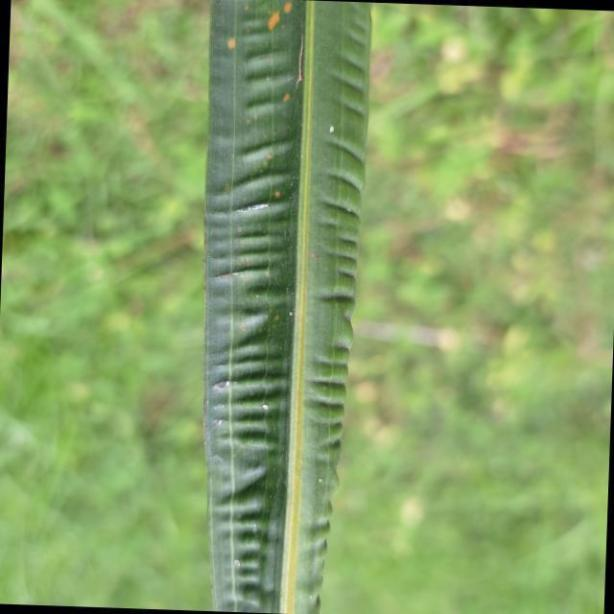Boron: (206, 0, 373, 614)
